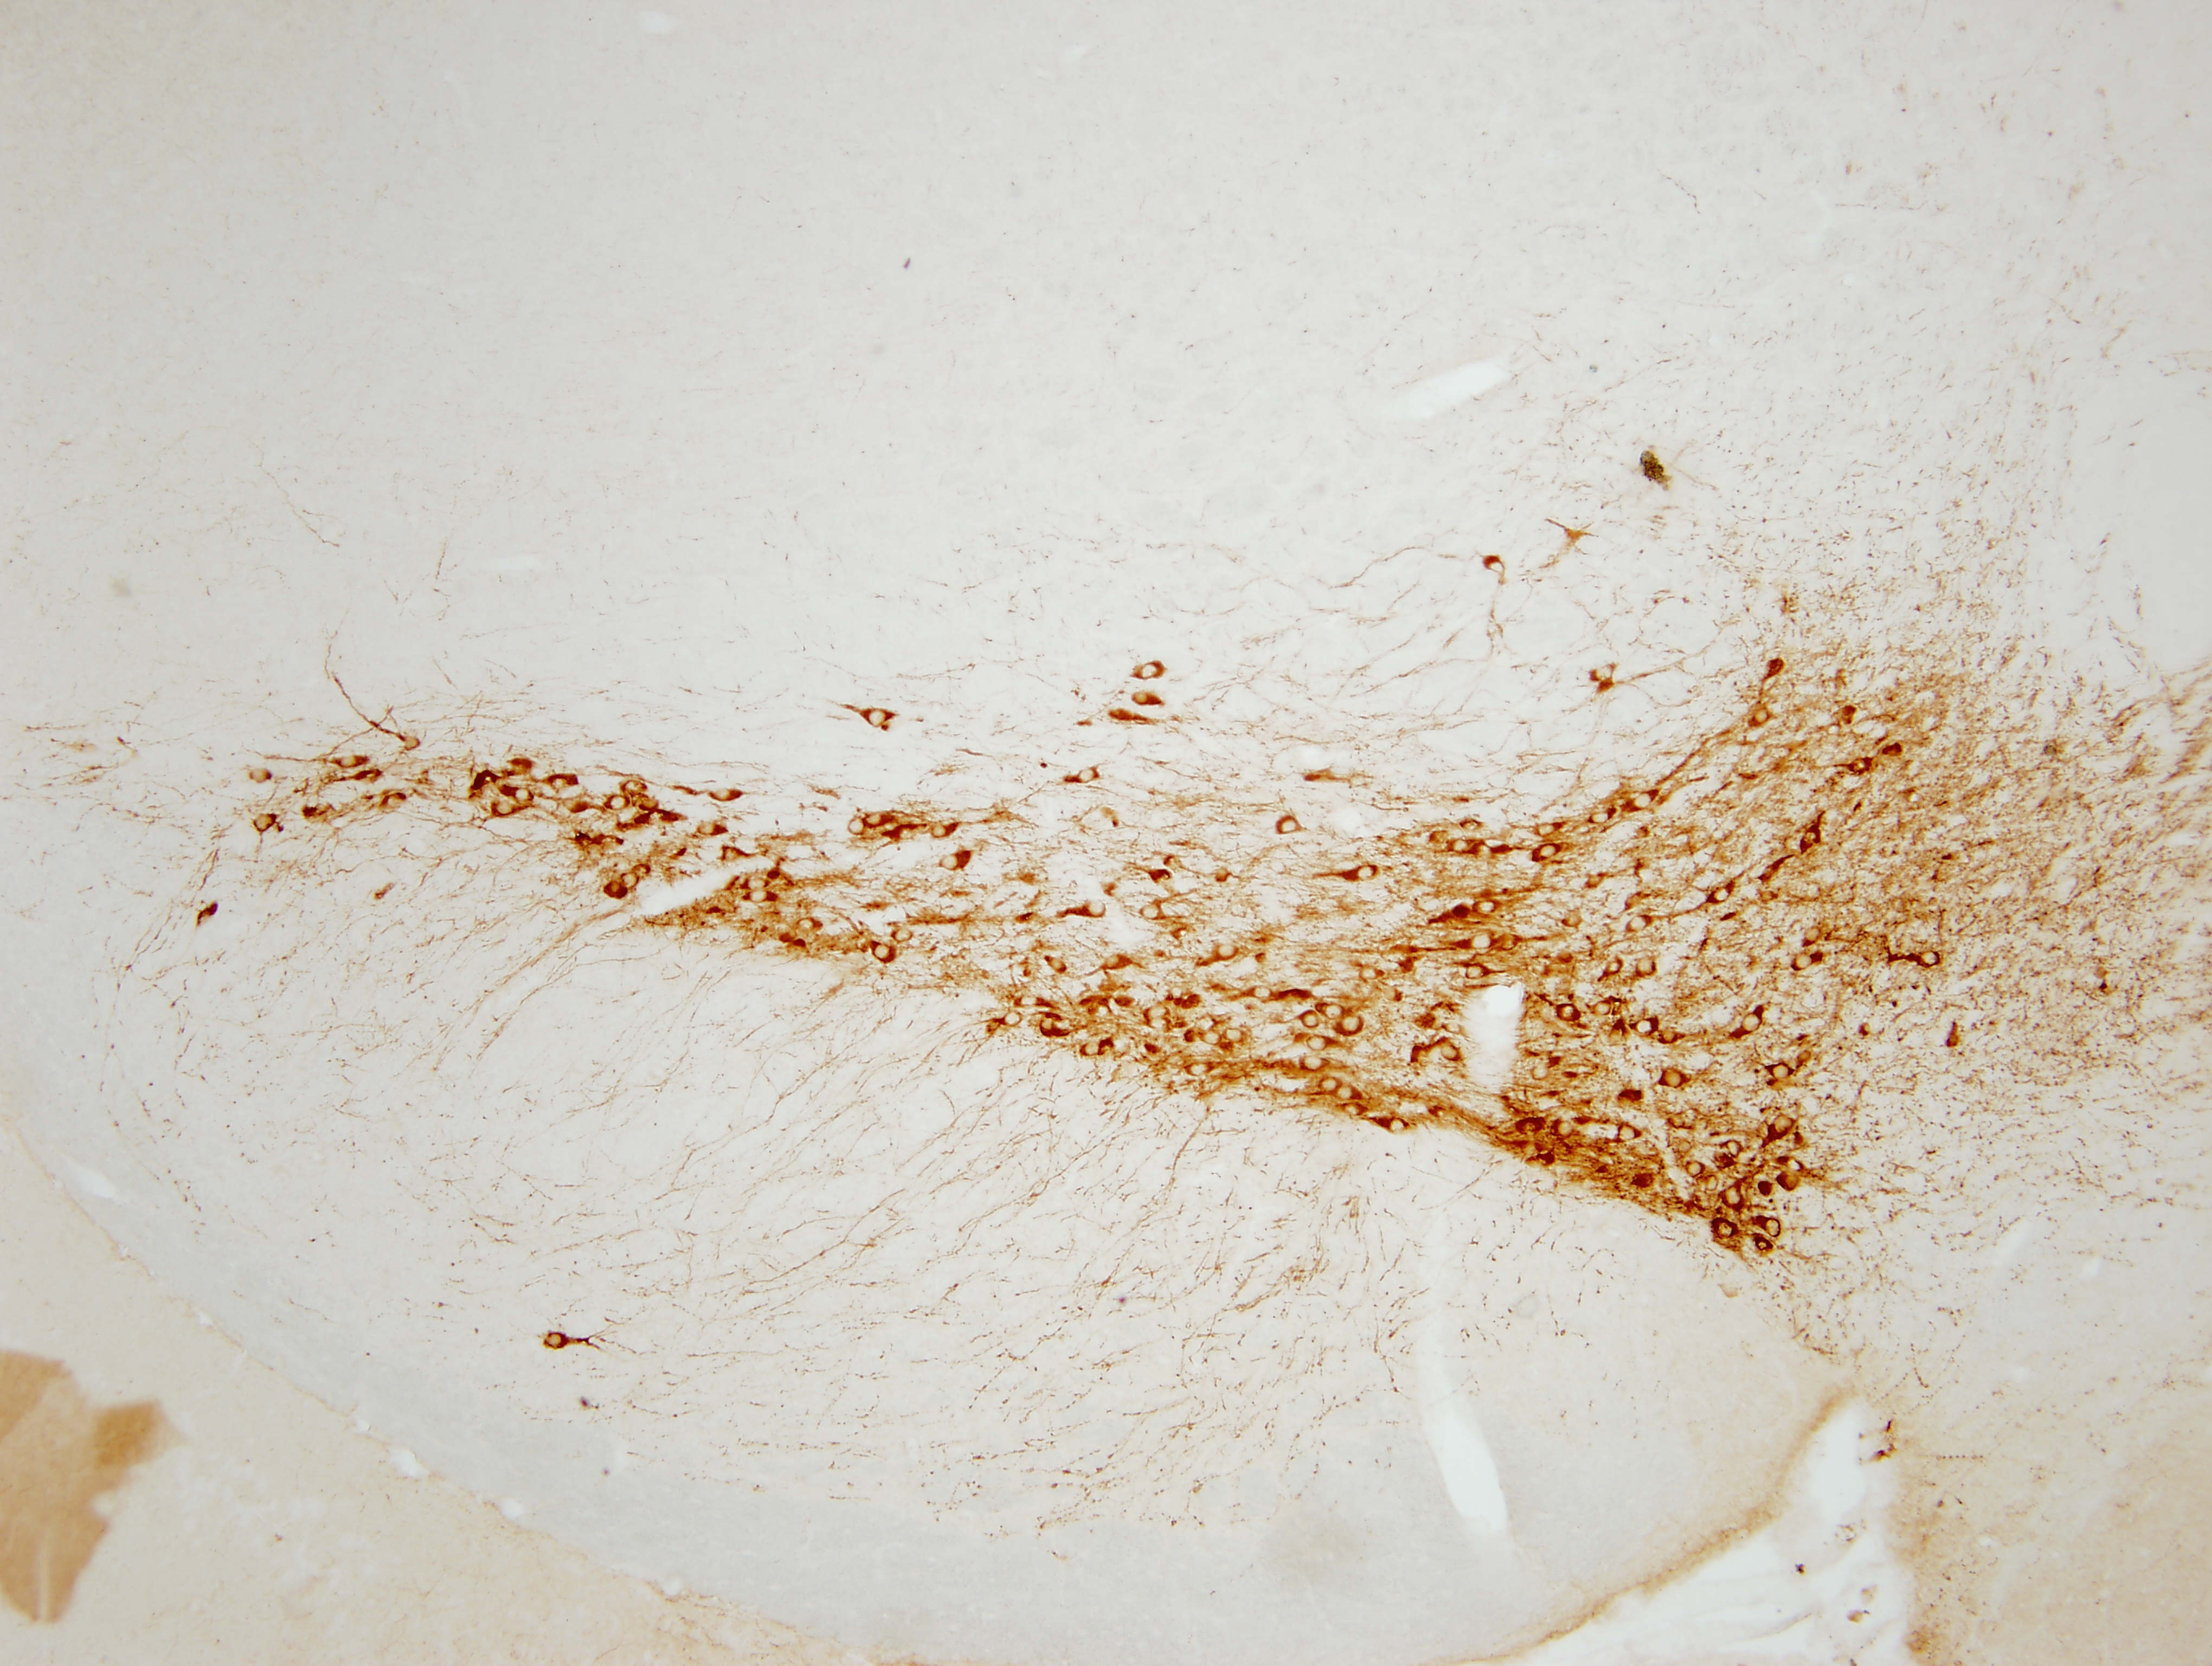neuron: (549, 770, 575, 796), (699, 817, 726, 843), (712, 781, 738, 807), (743, 870, 769, 896), (747, 886, 773, 912), (797, 912, 824, 938), (869, 940, 895, 966), (892, 922, 918, 949), (941, 849, 967, 875), (998, 1005, 1025, 1031), (1075, 765, 1102, 791), (1077, 1038, 1103, 1064), (1103, 950, 1130, 976), (1133, 688, 1159, 714), (1140, 900, 1166, 926), (1189, 1055, 1215, 1081), (1200, 1026, 1226, 1052), (1226, 1022, 1252, 1048), (1250, 980, 1276, 1006), (1275, 814, 1301, 840), (1301, 1050, 1327, 1076), (1306, 1031, 1332, 1057), (1339, 1013, 1366, 1039), (1353, 861, 1380, 887), (1387, 1113, 1413, 1139), (1437, 1041, 1464, 1067), (1465, 959, 1492, 985), (1471, 929, 1497, 956), (1476, 896, 1502, 922), (1537, 840, 1563, 866), (1553, 1116, 1579, 1143), (1588, 805, 1614, 831), (1591, 996, 1617, 1022), (1616, 1122, 1642, 1148), (1626, 915, 1652, 941), (1631, 788, 1658, 814), (1633, 954, 1659, 980), (1658, 1027, 1684, 1054), (1659, 1064, 1686, 1090), (1708, 882, 1735, 908), (1715, 1218, 1742, 1244), (1721, 1186, 1747, 1213), (1740, 1011, 1766, 1038), (1761, 1216, 1787, 1242), (1770, 1061, 1796, 1087), (1771, 1111, 1798, 1138), (1777, 1169, 1803, 1195), (1794, 949, 1820, 975), (1798, 826, 1824, 852), (1918, 947, 1944, 973), (248, 763, 275, 789), (254, 810, 280, 836), (385, 788, 411, 814), (399, 733, 425, 760), (512, 782, 539, 808), (605, 791, 631, 816), (623, 773, 649, 798), (866, 705, 890, 731), (1082, 898, 1109, 922), (1137, 660, 1163, 684), (1215, 940, 1240, 966), (1556, 1001, 1581, 1027), (1633, 1013, 1658, 1039), (1801, 922, 1827, 947), (337, 749, 362, 775), (491, 798, 518, 823), (932, 821, 951, 842), (1049, 956, 1068, 976), (1301, 1010, 1322, 1029), (1338, 1083, 1357, 1104), (1451, 836, 1471, 858), (1603, 959, 1624, 978), (1675, 1138, 1696, 1157), (1703, 1174, 1724, 1193), (848, 817, 867, 836), (866, 810, 885, 830), (1039, 1017, 1058, 1036), (1056, 1017, 1075, 1036), (1149, 1003, 1168, 1022), (1149, 1015, 1168, 1034), (1320, 1076, 1339, 1096), (1325, 1003, 1345, 1022), (1343, 1101, 1362, 1120), (1687, 1160, 1707, 1179), (1726, 1141, 1745, 1160), (1752, 707, 1771, 726), (1757, 1237, 1777, 1256), (1787, 1157, 1806, 1176), (1852, 760, 1871, 779)
